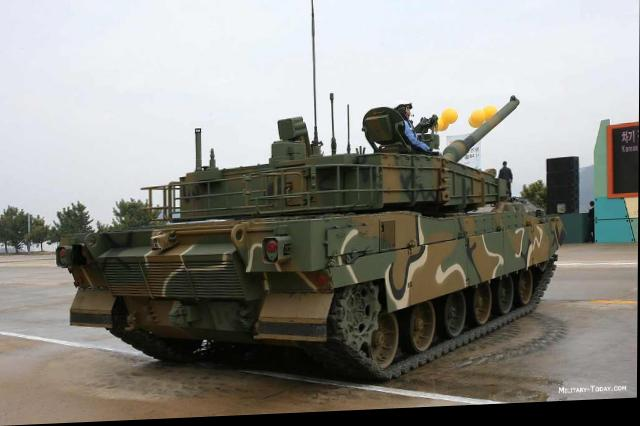other: (385, 93, 434, 157), (490, 150, 518, 195)
tank: (65, 143, 562, 370)
